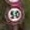limite 50: (4, 4, 24, 24)
